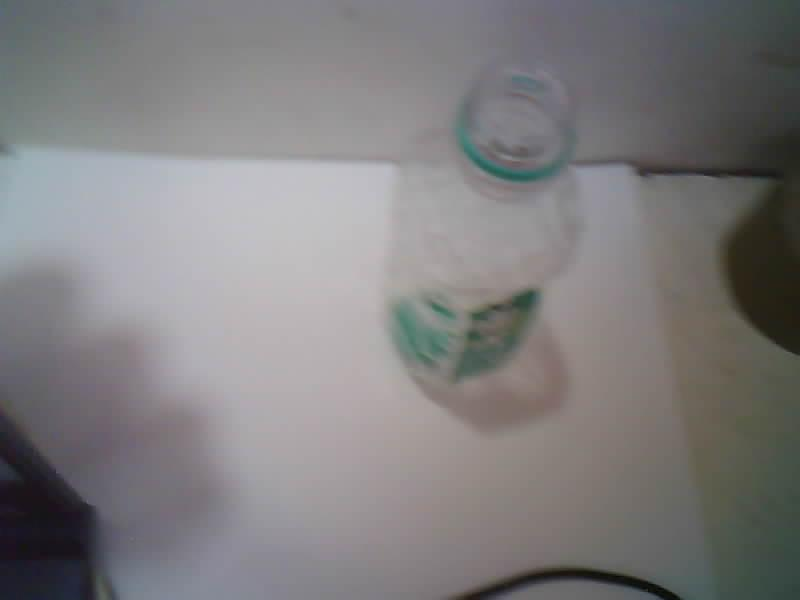non-biodegradable: (387, 62, 579, 404)
